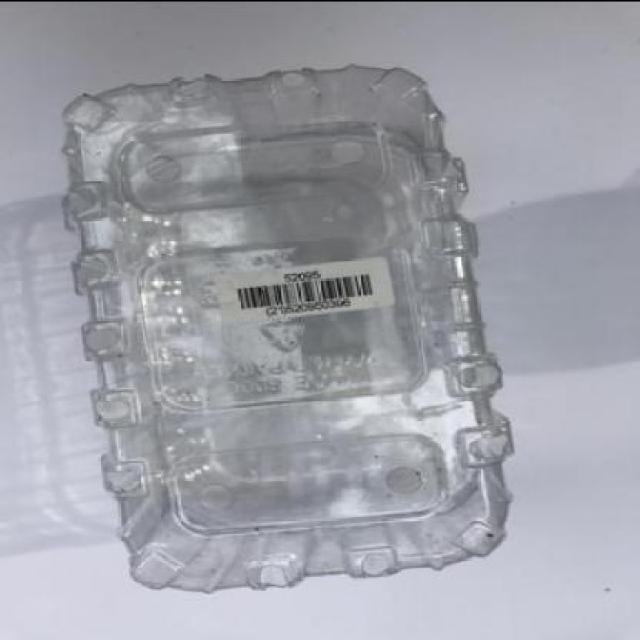PLASTIC: (61, 67, 514, 596)
